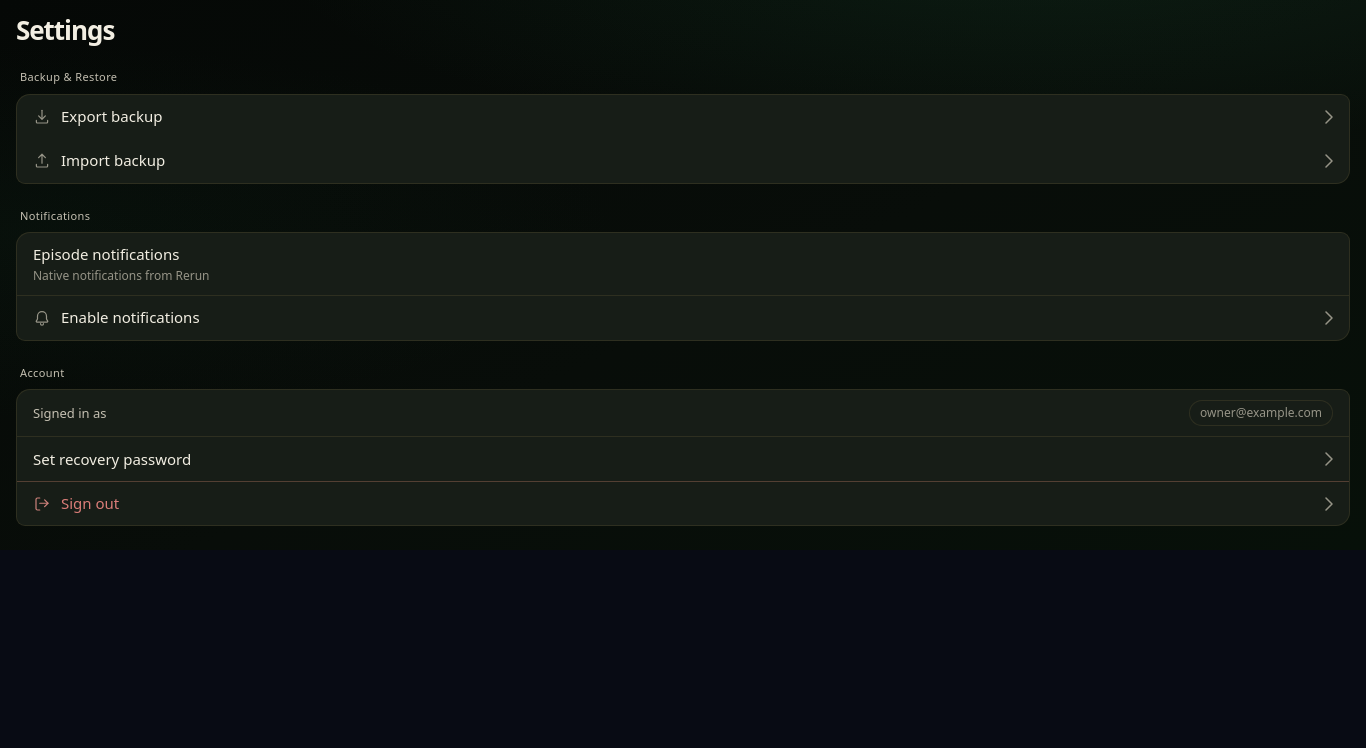
Test: Settings: Notifications section › shows a test delivery error while remaining enabled
What coordinates should you click on to do the following:
click the button "Enable notifications"
I would click on:
 (130, 317)
Its box is [17,296,1349,340].
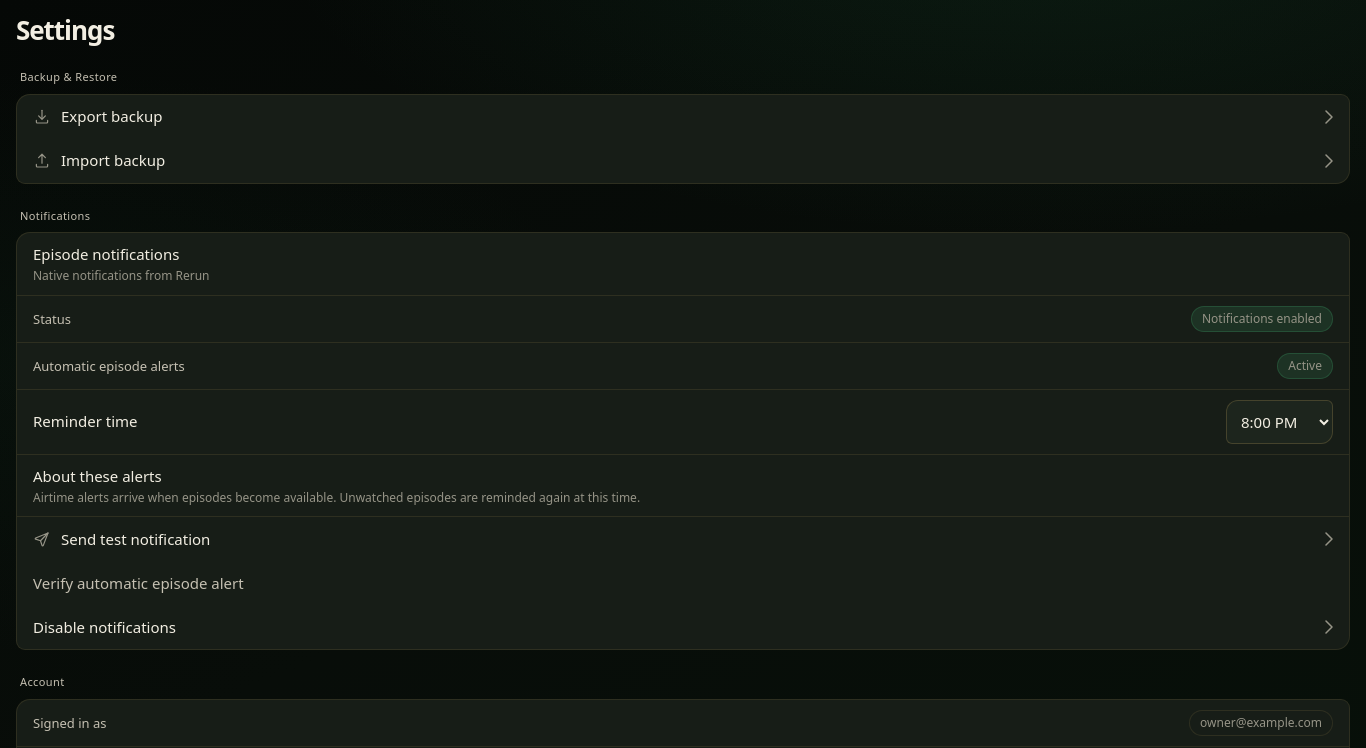
What coordinates should you click on to do the following:
click the button "Send test notification"
I would click on:
 (136, 539)
Its box is [17,517,1349,561].
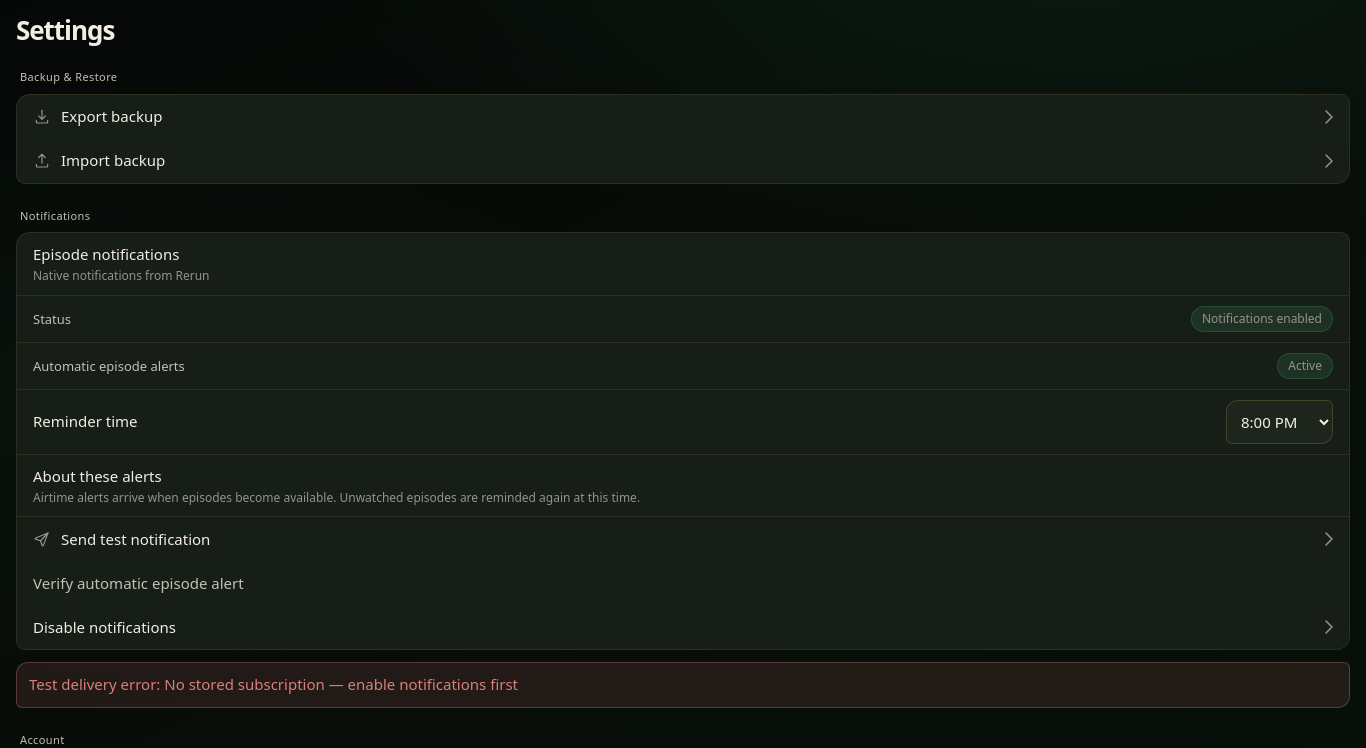
Expected: the text "Notifications enabled" is shown, [1191,306,1333,332]
Expected: the text "Test delivery error: No stored subscription — enable notifications first" is shown, [16,662,1350,708]
